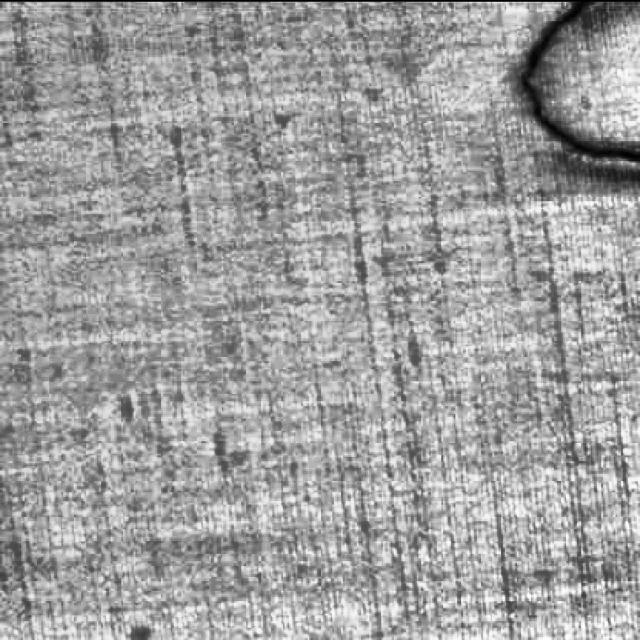objects: (512, 0, 640, 189)
